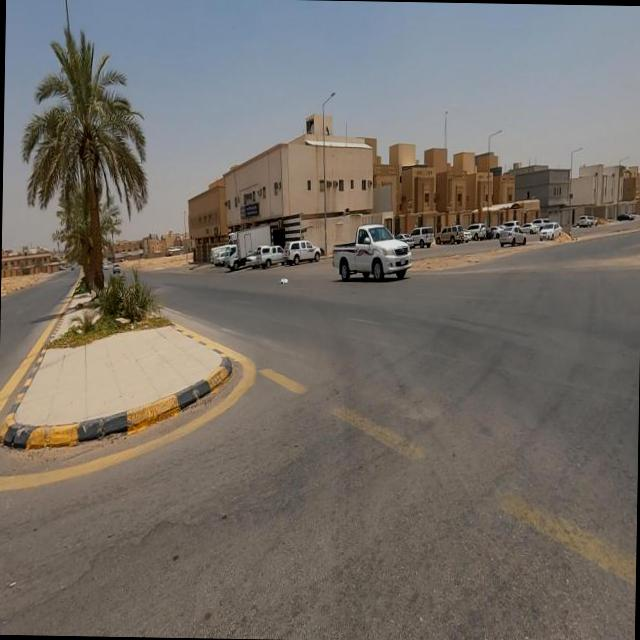debris: (262, 255, 310, 307)
